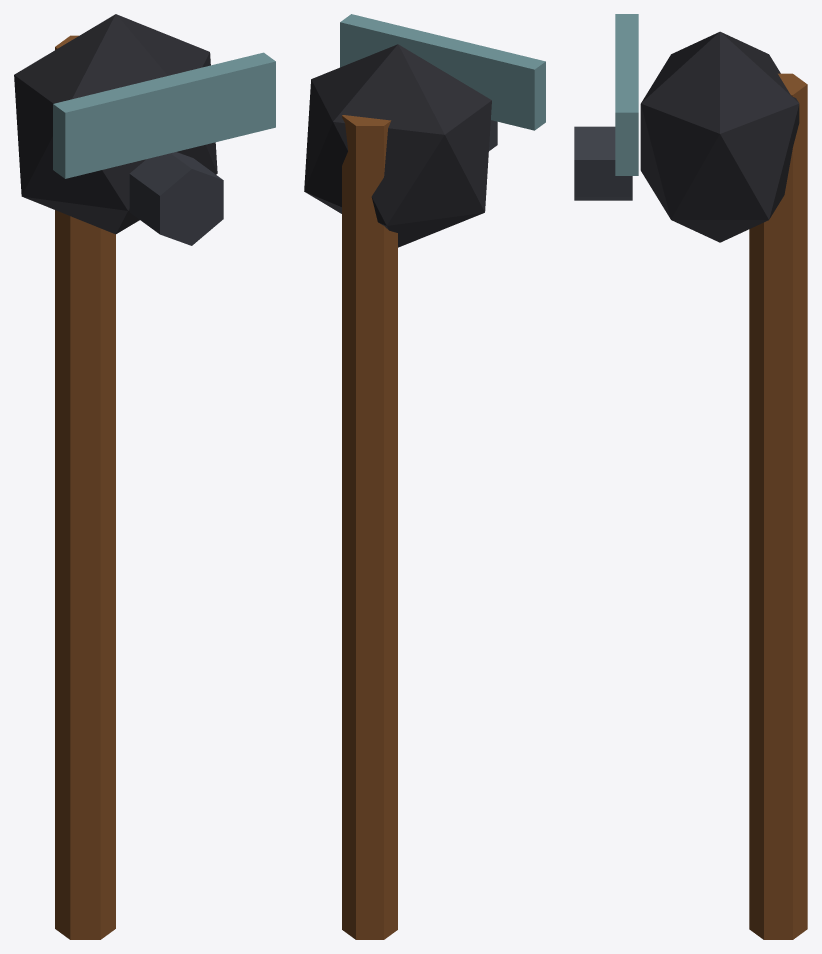
Rendered from gas_mask_post.glb.
3 views of the same model, side by side, from view 1: azimuth 30°, elevation 25°; view 2: azimuth 150°, elevation 25°; view 3: azimuth 270°, elevation 25° (orthographic). The views are drawn at different scales.
Visible parts, largest first — view 1: gas_mask_post; view 2: gas_mask_post; view 3: gas_mask_post.
Part boxes in pixels (<box>): gas_mask_post: <box>14,14,275,939</box>; gas_mask_post: <box>304,14,545,939</box>; gas_mask_post: <box>574,14,807,939</box>.
Size of the model in its own units: 0.4 by 1.7 by 0.4.
